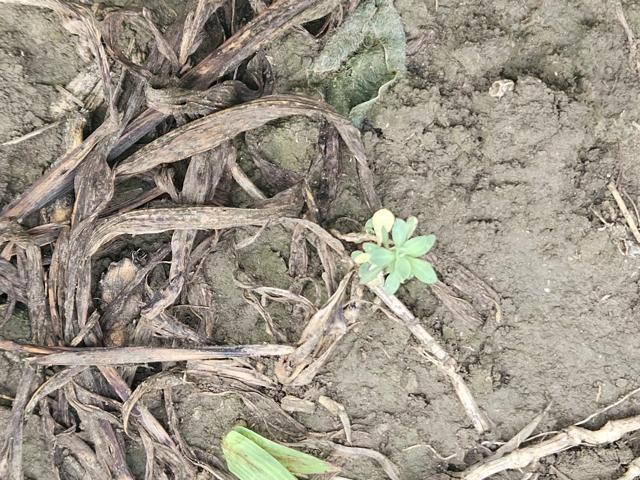bad weed: (312, 203, 469, 305), (181, 421, 345, 473)
